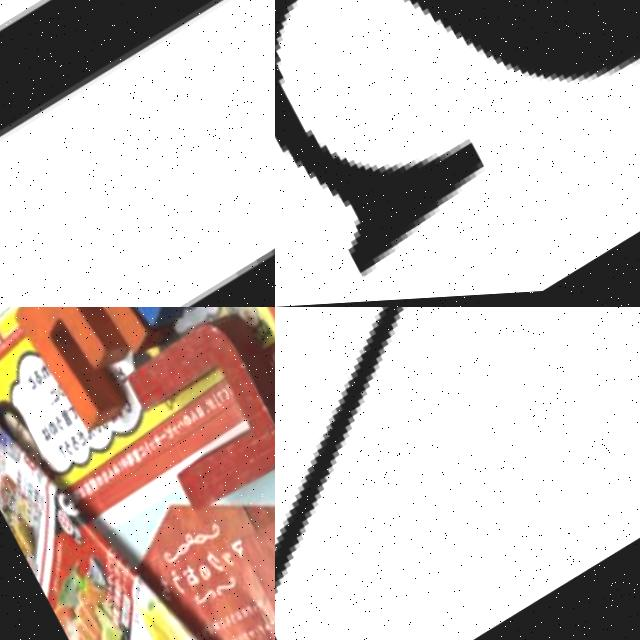D: (0, 0, 275, 307)
E: (0, 307, 197, 448)
S: (275, 0, 640, 307)
U: (112, 307, 275, 530)
V: (275, 307, 640, 640)
